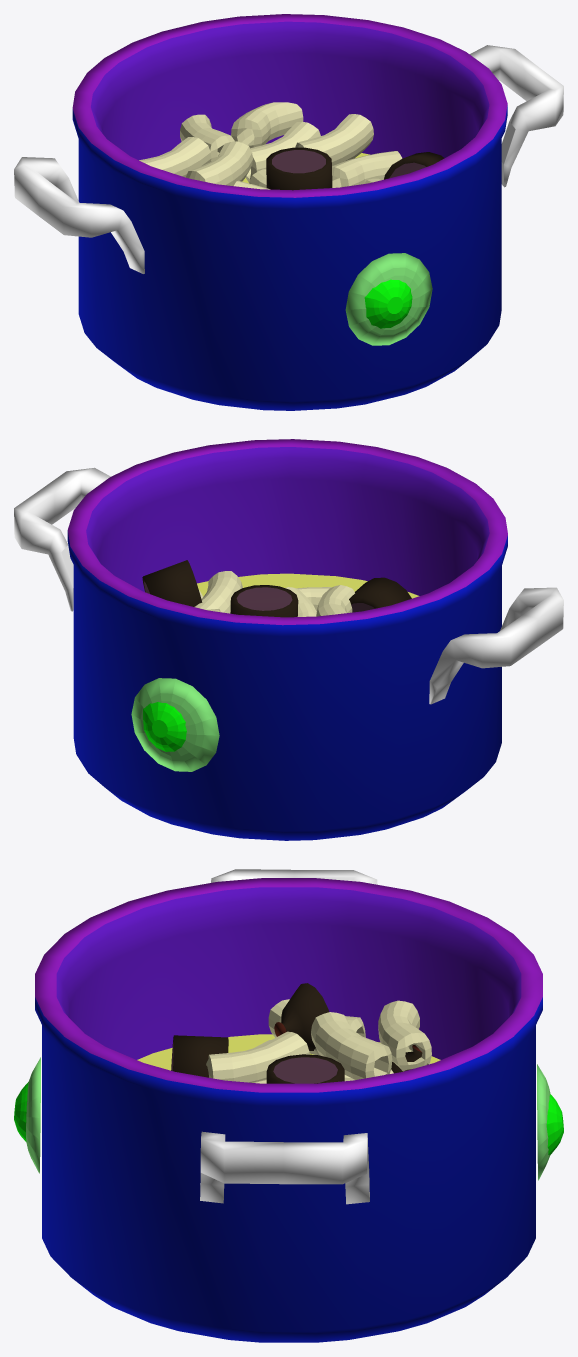
The model's file is cheesed_egged_mac_pot.fbx.
3 renders of one model, top to bottom at view 1: azimuth 30°, elevation 25°; view 2: azimuth 150°, elevation 25°; view 3: azimuth 270°, elevation 25°, orthographic. The views are drawn at different scales.
Visible parts, largest first — view 1: Pot, cooked noodles, Handles, Egg1, HotdogSlice1; view 2: Pot, Handles, Egg1, HotdogSlice1, cooked noodles, Cheese.002, HotdogSlice2; view 3: Pot, Handles, cooked noodles, HotdogSlice1, Egg1, HotdogSlice2, Cheese.002.
Boxes of the visible parts, box(x1,y1,x2,y2) form: Pot: box(72, 14, 507, 410); cooked noodles: box(139, 102, 402, 189); Handles: box(14, 45, 563, 273); Egg1: box(345, 253, 432, 345); HotdogSlice1: box(266, 147, 444, 190); Pot: box(67, 439, 507, 840); Handles: box(14, 467, 563, 704); Egg1: box(131, 678, 219, 771); HotdogSlice1: box(142, 560, 298, 617); cooked noodles: box(194, 571, 354, 616); Cheese.002: box(197, 573, 419, 598); HotdogSlice2: box(349, 577, 411, 612); Pot: box(35, 878, 542, 1342); Handles: box(200, 869, 377, 1204); cooked noodles: box(206, 999, 431, 1083); HotdogSlice1: box(266, 983, 344, 1083); Egg1: box(14, 1057, 563, 1180); HotdogSlice2: box(171, 1035, 422, 1077); Cheese.002: box(137, 1034, 440, 1070).
Size of the model in its own units: 83.61 by 35.99 by 68.15.
